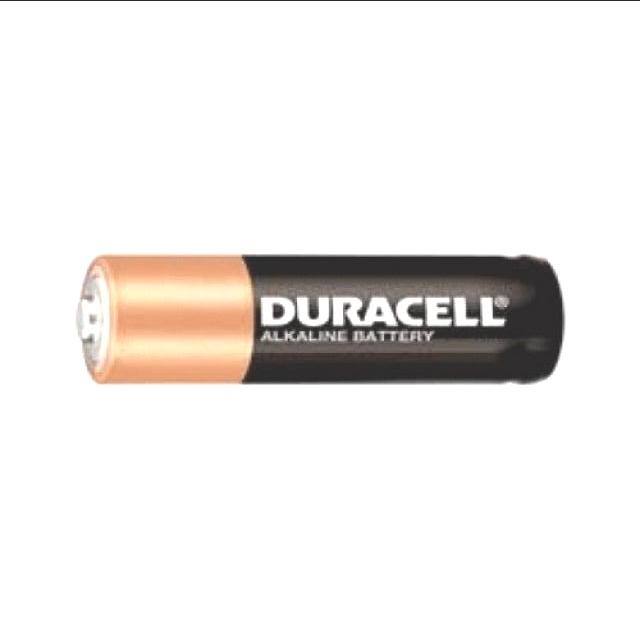AA: (70, 246, 566, 388)
